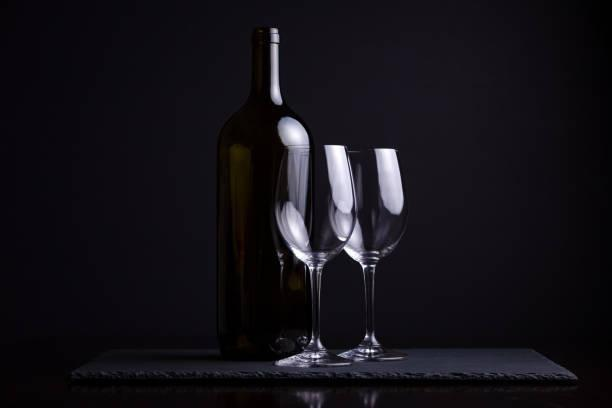bottle-glass: (212, 24, 315, 361)
glass-wine: (271, 142, 357, 369), (330, 142, 411, 363)
